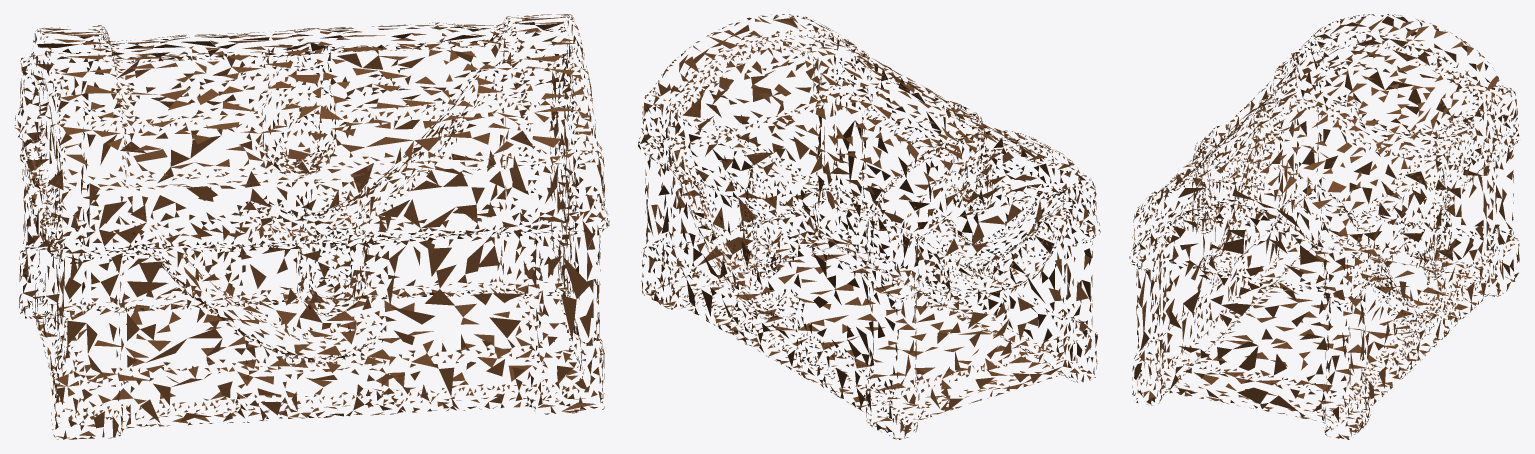
File: chest.obj
3 renders of one model, left to right at view 1: azimuth 30°, elevation 25°; view 2: azimuth 150°, elevation 25°; view 3: azimuth 270°, elevation 25°, orthographic. The views are drawn at different scales.
Size of the model in its own units: 1 by 0.563 by 0.8062.
